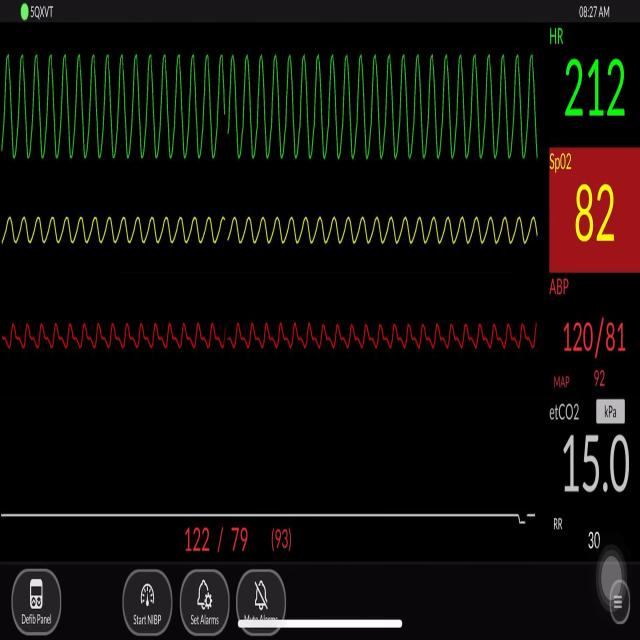danger: (7, 39, 541, 174)
